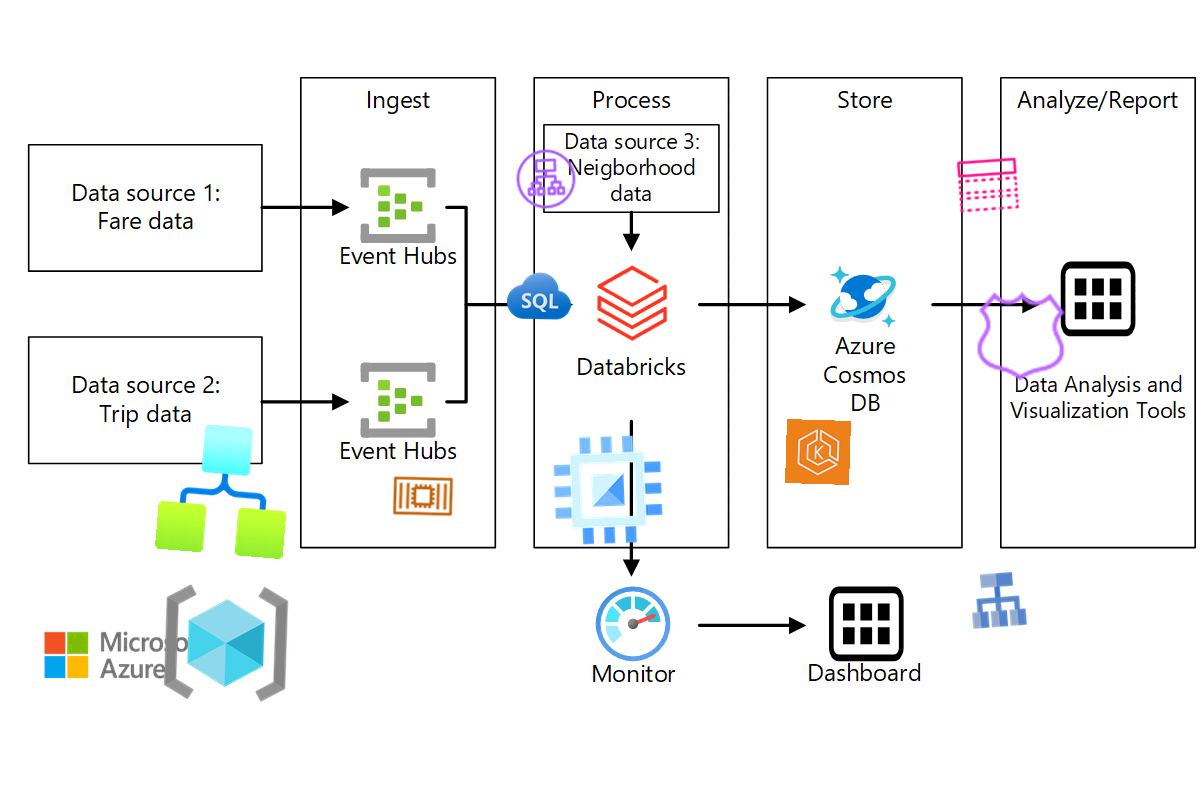aws_amazon_elastic_kubernetes_service: (785, 419, 851, 485)
aws_elastic_container_service_container_2: (390, 463, 456, 529)
aws_elastic_load_balancing_application_load_balancer: (512, 145, 580, 213)
aws_route_53_hosted_zone: (972, 286, 1072, 386)
aws_simple_notification_service_topic: (953, 150, 1023, 220)
azure_logic_apps: (154, 420, 294, 560)
azure_resource_groups: (159, 576, 293, 710)
azure_sql: (506, 264, 572, 330)
gcp_cloud_load_balancing: (963, 565, 1033, 635)
gcp_compute_engine: (541, 423, 675, 557)
